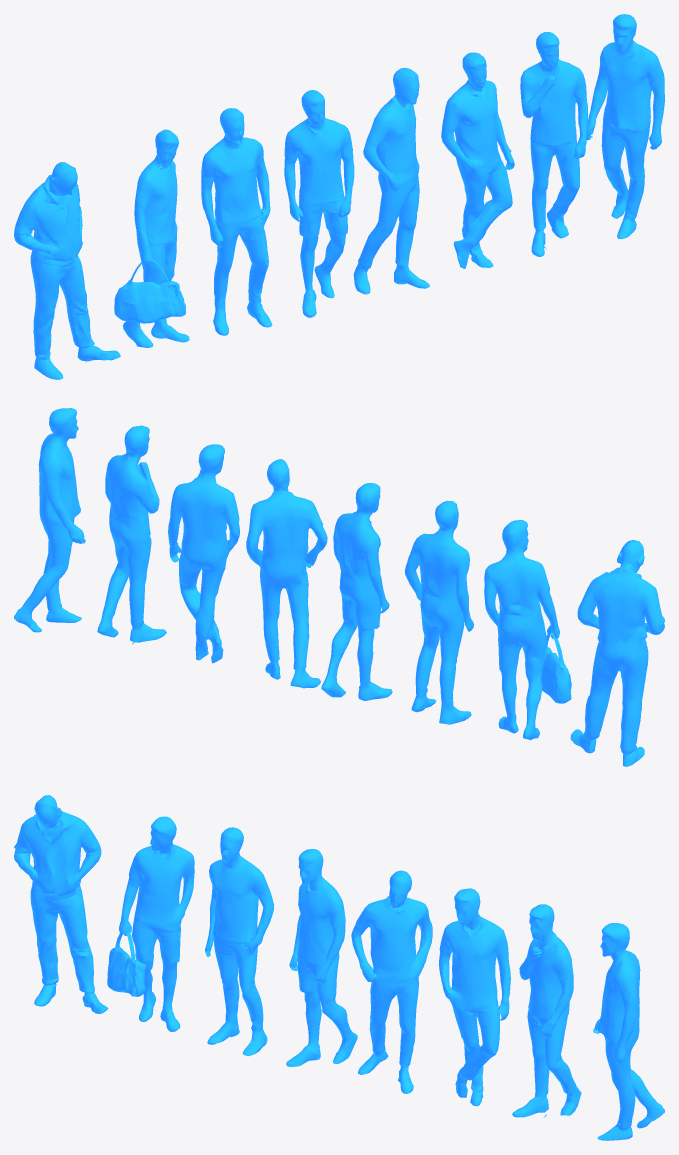
Rendered from low_poly_people_pack_male.glb.
The picture shows the model from 3 angles, top to bottom: view 1: azimuth 30°, elevation 25°; view 2: azimuth 150°, elevation 25°; view 3: azimuth 330°, elevation 25°; orthographic projection.
Visible parts, largest first — view 1: 1__0, 8__0, 3__0, 4__0, 7__0, 2__0, 6__0, 5__0; view 2: 1__0, 2__0, 5__0, 6__0, 3__0, 7__0, 4__0, 8__0; view 3: 1__0, 2__0, 5__0, 6__0, 3__0, 4__0, 7__0, 8__0.
Part boxes in pixels (x1,y1,x2,y2): 1__0: (14,162,120,379); 8__0: (586,14,664,238); 3__0: (201,108,272,335); 4__0: (284,90,354,317); 7__0: (520,32,588,256); 2__0: (114,129,189,347); 6__0: (441,52,514,268); 5__0: (353,67,429,294); 1__0: (570,539,664,766); 2__0: (484,520,571,740); 5__0: (246,459,327,688); 6__0: (168,444,239,663); 3__0: (405,500,473,724); 7__0: (97,425,166,644); 4__0: (321,483,392,700); 8__0: (14,408,85,632); 1__0: (14,795,108,1013); 2__0: (107,816,194,1031); 5__0: (351,870,432,1093); 6__0: (439,888,510,1106); 3__0: (205,827,274,1056); 4__0: (286,849,357,1066); 7__0: (512,904,581,1117); 8__0: (593,923,664,1140).
Bounding box in the file's own units: 12.02 × 3.92 × 1.62.
